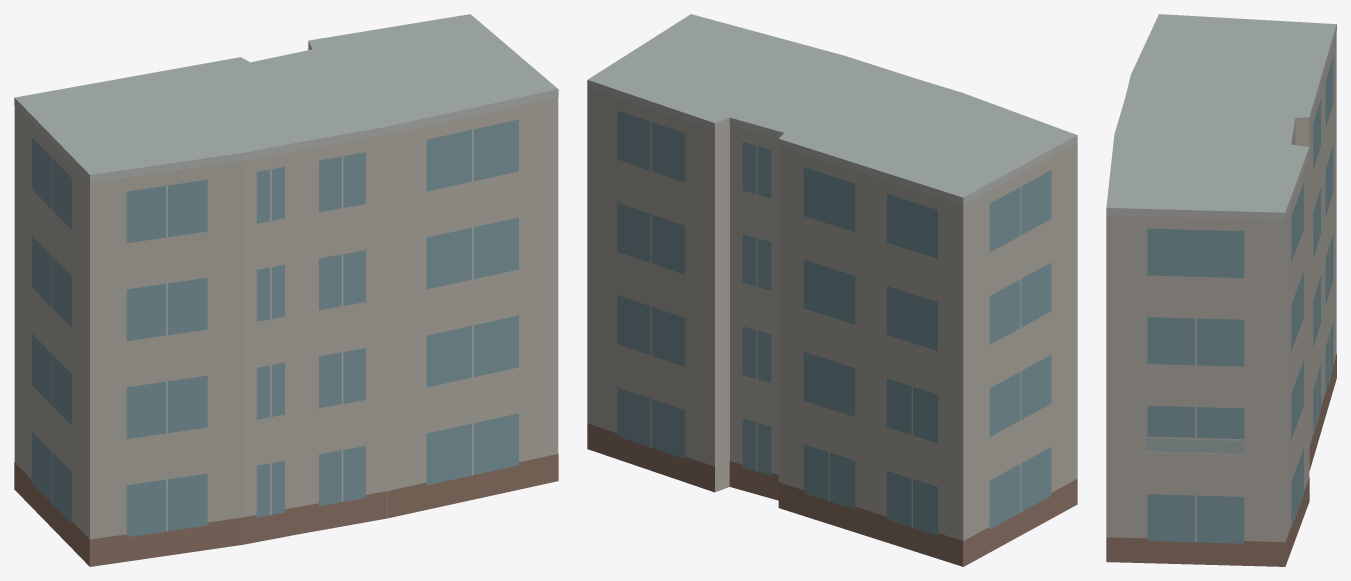
File: survey-upis-33031318.glb
3 views of the same model, side by side, from view 1: azimuth 30°, elevation 25°; view 2: azimuth 150°, elevation 25°; view 3: azimuth 270°, elevation 25° (orthographic). The views are drawn at different scales.
Visible parts, largest first — view 1: survey-upis-33031318.tmp; view 2: survey-upis-33031318.tmp; view 3: survey-upis-33031318.tmp.
Boxes of the visible parts, <box> form: survey-upis-33031318.tmp: <box>14,14,558,566</box>; survey-upis-33031318.tmp: <box>587,14,1077,566</box>; survey-upis-33031318.tmp: <box>1106,14,1336,566</box>.
Size of the model in its own units: 14.57 by 12.1 by 7.14.
